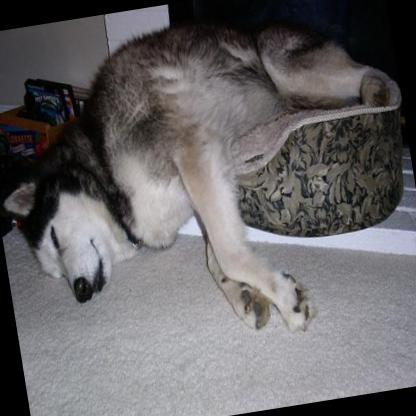Siberian_husky: (0, 0, 416, 372)
